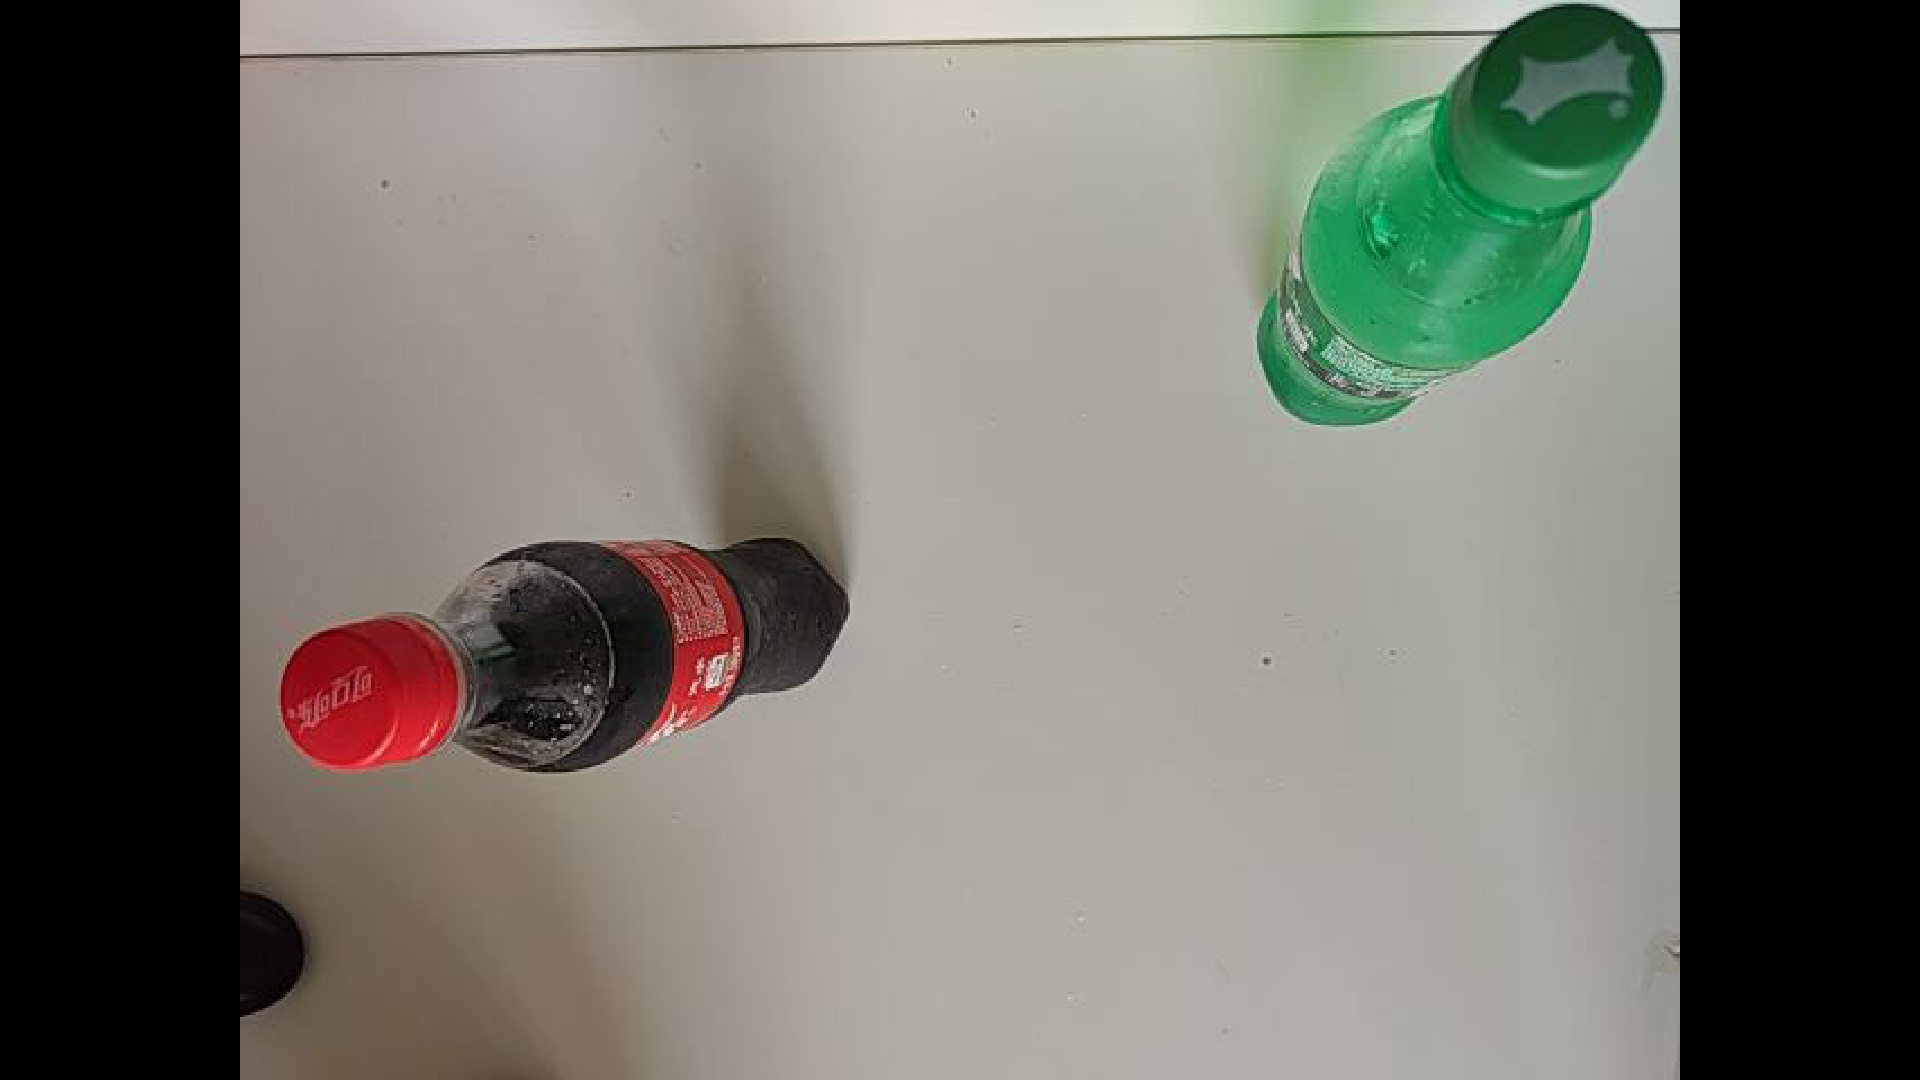cola: (252, 530, 919, 836)
sprite: (1254, 0, 1667, 431)
